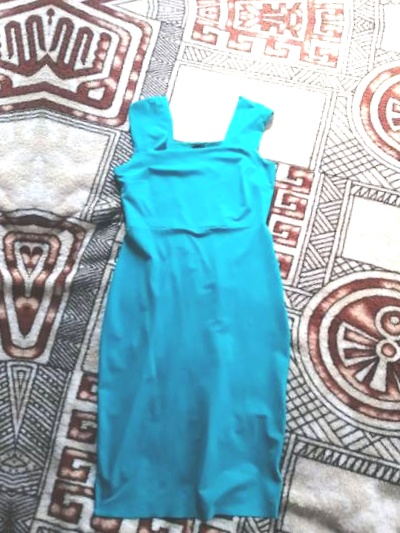Dress: (60, 78, 335, 529)
